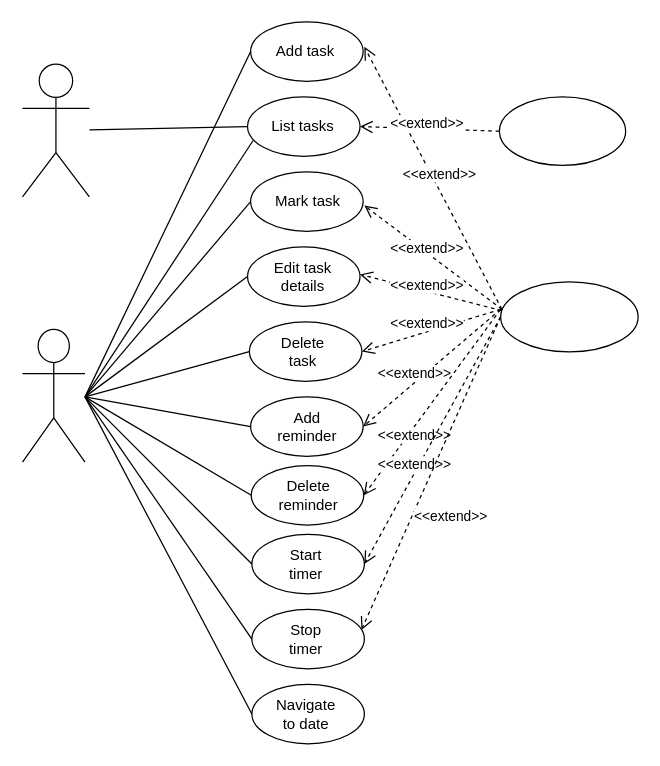
This 660x766 diagram has some shape labels left out. The box of each missing label's shape, as (x1, y1, x2, y2) in pixels:
Display "invalid index" error: (499, 281, 638, 352)
Display sorted list: (498, 96, 626, 165)
JelphaBot: (21, 63, 89, 197)
User: (21, 328, 85, 462)
